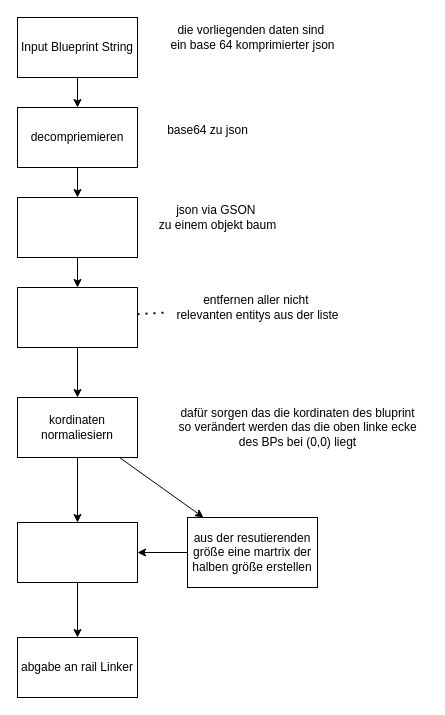
Image size: 445x715. Some labels were removed from this diagram. The box of each missing label's shape, as (x1, y1, x2, y2) in pixels:
entitys zur matrix hinzufügen: (16, 522, 138, 582)
filtern: (16, 286, 138, 348)
transformieren: (16, 196, 138, 258)
